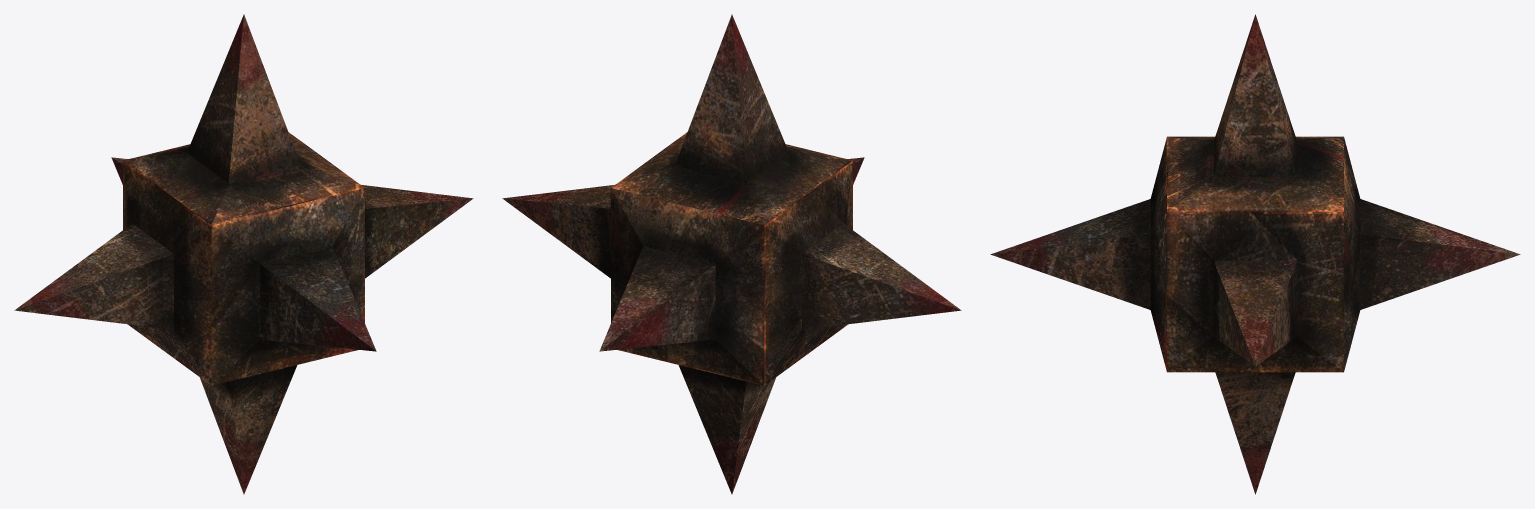
Rendered from pincho.fbx.
The picture shows the model from 3 angles, left to right: view 1: azimuth 30°, elevation 25°; view 2: azimuth 150°, elevation 25°; view 3: azimuth 270°, elevation 25°; orthographic projection.
Visible parts, largest first — view 1: Pincho; view 2: Pincho; view 3: Pincho.
Part boxes in pixels (<box>): Pincho: <box>14,14,473,494</box>; Pincho: <box>502,14,961,494</box>; Pincho: <box>990,14,1520,494</box>.
Bounding box in the file's own units: 802 × 802 × 802.
Materials: 1 (1 with a texture image).
